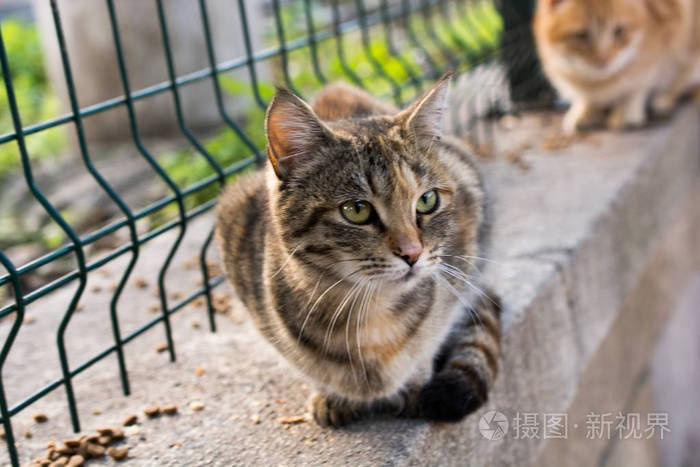cat: (215, 78, 504, 426), (529, 1, 700, 134)
